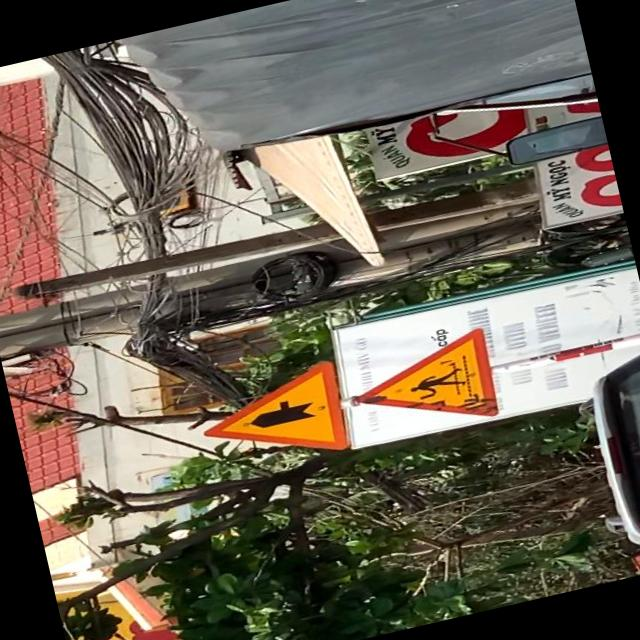W-207b: (191, 356, 355, 478)
W-224: (335, 325, 507, 447)
